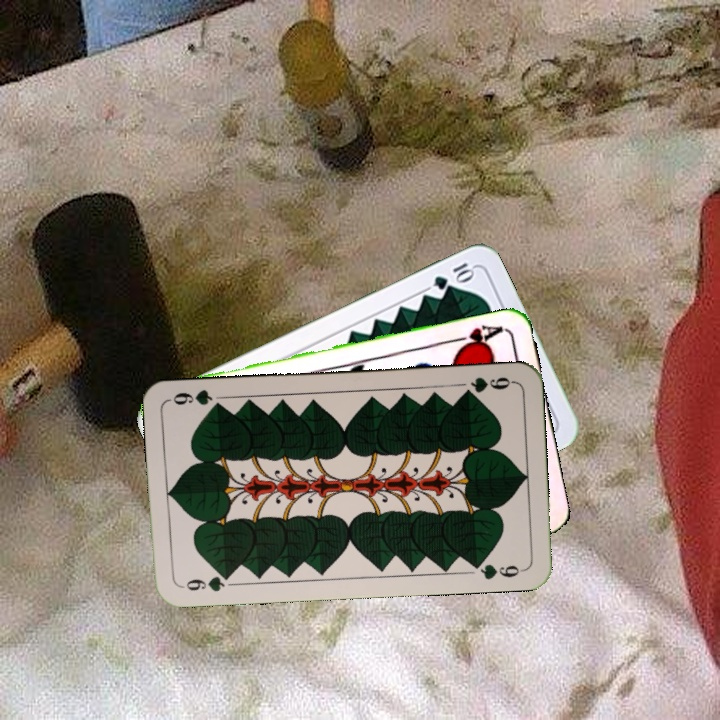G10: (429, 258, 477, 293)
G9: (458, 373, 516, 399), (177, 570, 236, 594)
HA: (448, 321, 506, 354)
